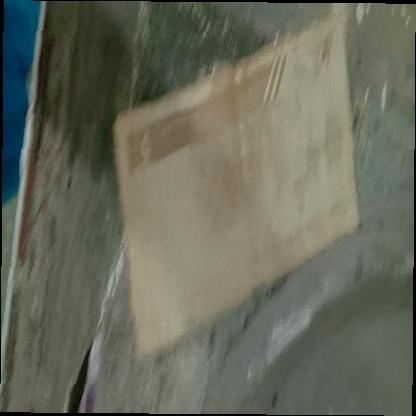five-back-vef: (113, 13, 360, 352)
